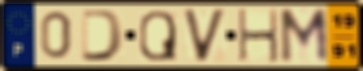0: (38, 9, 76, 62)
D: (79, 8, 127, 63)
H: (236, 8, 281, 65)
M: (277, 7, 331, 65)
Q: (137, 9, 179, 63)
V: (180, 7, 229, 64)
